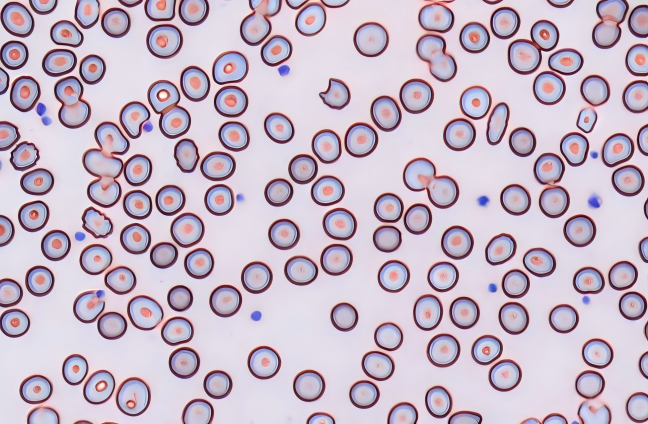PLT: (585, 193, 605, 210), (276, 63, 292, 78), (476, 193, 491, 209), (73, 229, 87, 243), (35, 100, 48, 115), (40, 113, 53, 127), (250, 309, 264, 322), (486, 281, 499, 294), (142, 120, 154, 132), (234, 192, 245, 204), (581, 295, 591, 307), (96, 288, 106, 298), (589, 150, 599, 160)
RBC: (82, 148, 123, 190), (116, 377, 151, 416), (353, 21, 389, 57), (146, 24, 183, 59), (94, 121, 129, 157), (399, 78, 434, 114), (127, 295, 163, 330), (0, 2, 34, 38), (170, 212, 204, 248), (507, 39, 541, 75), (212, 50, 248, 84), (344, 122, 378, 157), (9, 75, 41, 112), (247, 345, 281, 379), (426, 333, 460, 367), (147, 79, 180, 114), (322, 207, 357, 240), (239, 10, 271, 46), (370, 95, 401, 132), (402, 157, 435, 191), (158, 105, 191, 139), (601, 133, 634, 167), (441, 225, 473, 260), (459, 85, 491, 120), (418, 2, 454, 33), (180, 65, 210, 102), (426, 175, 459, 208), (209, 284, 242, 317), (377, 260, 410, 293), (443, 118, 476, 151), (563, 214, 596, 247), (488, 359, 522, 391), (83, 370, 115, 404), (533, 71, 565, 105), (214, 85, 248, 117), (86, 177, 121, 208), (310, 175, 345, 206), (413, 294, 443, 330), (293, 369, 325, 402), (73, 290, 105, 323), (241, 261, 273, 294), (200, 151, 235, 181), (81, 206, 113, 238), (320, 243, 352, 275), (168, 347, 200, 379), (268, 218, 300, 250), (533, 152, 565, 184), (498, 302, 529, 335), (611, 165, 644, 196), (539, 185, 570, 218), (79, 244, 112, 275), (295, 3, 326, 36), (284, 255, 318, 285), (311, 129, 341, 163), (485, 233, 516, 265), (581, 338, 613, 369), (120, 222, 151, 254), (459, 21, 490, 53), (18, 200, 49, 232), (260, 35, 292, 66), (263, 112, 294, 144), (58, 99, 91, 129), (361, 351, 394, 381), (449, 296, 479, 329), (523, 247, 556, 277), (486, 102, 509, 145), (42, 48, 76, 77), (560, 132, 589, 166), (471, 334, 502, 365), (427, 261, 458, 292), (500, 184, 531, 215), (204, 184, 234, 216), (41, 229, 71, 261), (155, 184, 185, 216), (490, 7, 520, 39), (580, 74, 610, 106), (19, 375, 52, 404), (173, 138, 200, 173), (548, 48, 583, 75), (9, 141, 40, 171), (373, 192, 403, 223), (184, 248, 214, 279), (218, 121, 249, 151), (161, 316, 193, 345), (104, 266, 136, 295), (123, 154, 152, 186), (25, 265, 54, 297), (530, 19, 559, 51), (20, 168, 54, 195), (0, 308, 30, 338), (608, 260, 638, 290), (403, 203, 432, 234), (548, 304, 579, 333), (101, 7, 130, 38), (572, 266, 604, 294), (425, 385, 452, 418), (50, 20, 83, 47), (349, 380, 379, 409), (575, 370, 605, 399), (288, 154, 317, 184), (97, 311, 127, 340), (123, 189, 152, 219), (181, 398, 214, 424), (622, 80, 648, 113), (577, 399, 611, 424), (54, 76, 83, 105), (592, 20, 621, 49), (203, 370, 232, 399), (374, 322, 403, 351), (618, 291, 647, 320), (429, 52, 457, 82), (416, 34, 446, 62), (508, 127, 536, 157), (0, 40, 28, 70), (330, 302, 358, 331), (501, 269, 529, 298), (264, 178, 293, 206), (79, 54, 106, 84), (62, 354, 88, 385), (178, 0, 209, 26), (596, 0, 628, 25), (372, 225, 401, 252), (625, 43, 648, 76), (150, 242, 178, 269), (74, 0, 100, 29), (167, 285, 193, 312), (626, 392, 648, 423), (387, 402, 418, 424), (628, 4, 648, 38), (144, 0, 176, 21), (0, 278, 23, 307), (0, 121, 20, 151), (27, 406, 59, 424), (248, 0, 281, 17), (576, 107, 597, 133), (0, 214, 15, 247), (448, 411, 482, 424), (29, 0, 58, 15), (636, 124, 648, 156), (306, 412, 335, 424), (0, 67, 10, 95), (542, 413, 567, 424), (638, 236, 648, 263), (639, 351, 648, 379), (320, 0, 349, 8), (546, 0, 574, 8), (285, 0, 309, 9), (118, 0, 143, 7), (520, 417, 541, 424), (643, 197, 648, 219), (643, 320, 648, 341), (482, 0, 503, 5), (73, 419, 93, 424)
Schistocyte: (119, 100, 151, 139), (319, 76, 352, 111)
